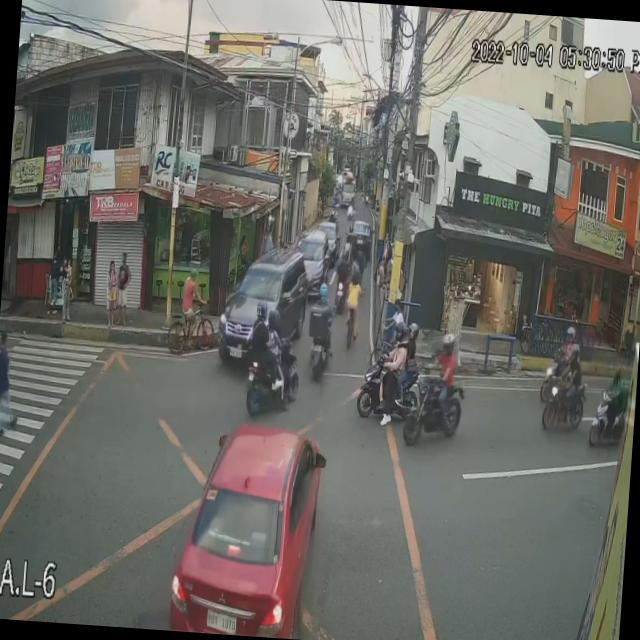full: (439, 331, 456, 358), (266, 306, 282, 331), (254, 300, 268, 322), (394, 320, 408, 340), (569, 344, 580, 366), (564, 326, 576, 344)
half: (407, 318, 419, 344), (317, 282, 330, 299)
